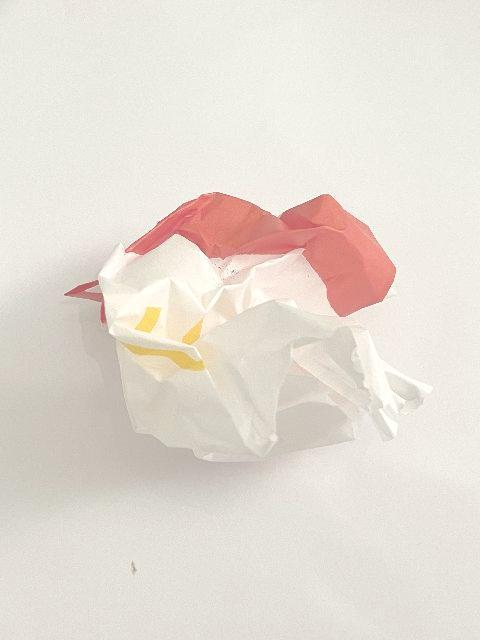paperbag: (64, 191, 432, 464)
